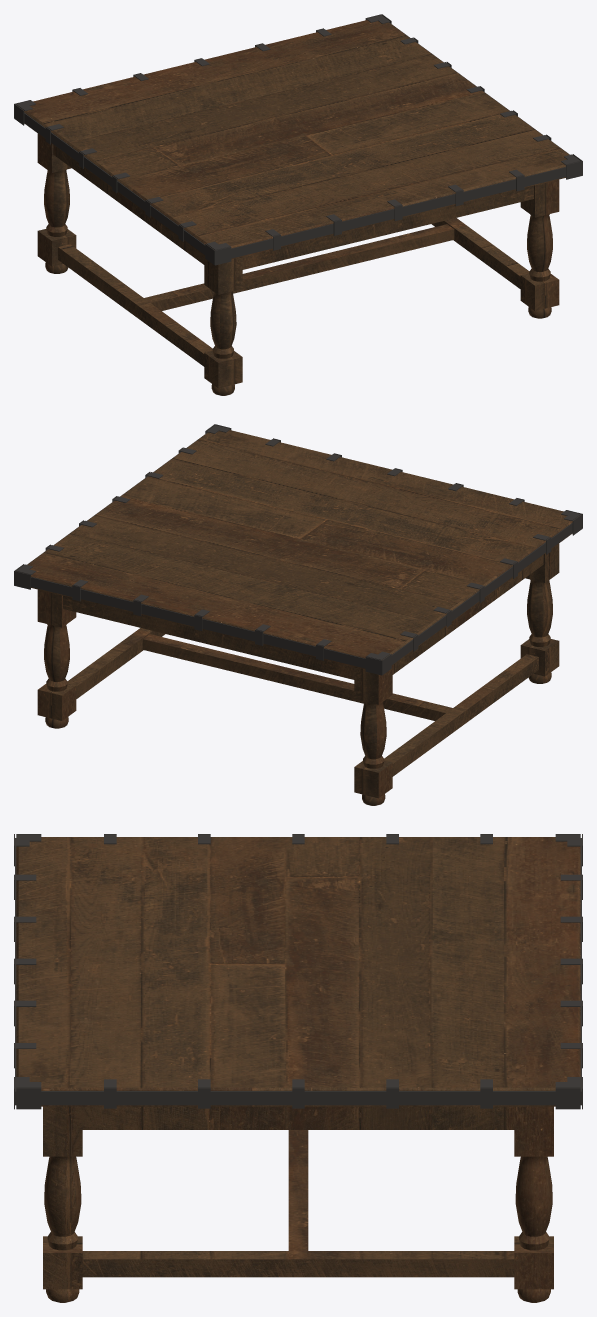
File: table.glb
3 views of the same model, one above another, from view 1: azimuth 30°, elevation 25°; view 2: azimuth 150°, elevation 25°; view 3: azimuth 270°, elevation 25° (orthographic). The views are drawn at different scales.
Visible parts, largest first — view 1: table; view 2: table; view 3: table.
Boxes of the visible parts, x1,y1,x2,y2 form: table: (14, 14, 582, 395); table: (14, 424, 582, 805); table: (14, 834, 582, 1302).
Bounding box in the file's own units: 1.81 × 0.758 × 1.71.
2 materials, 1 textured.
